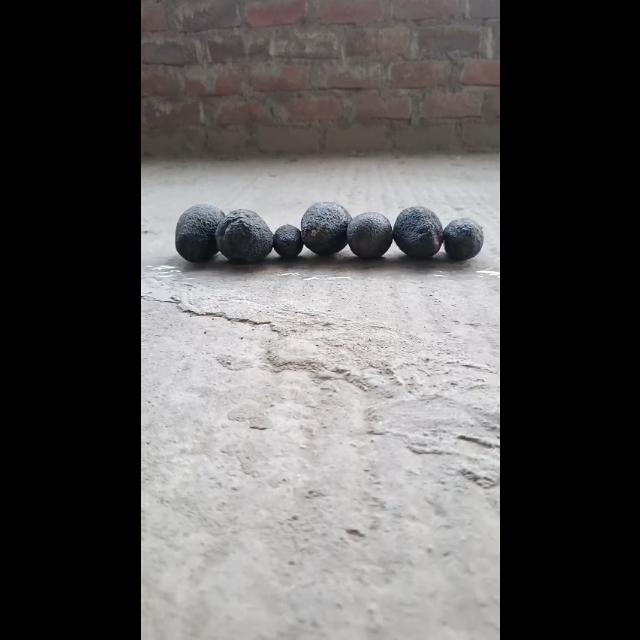Primera: (213, 208, 270, 262), (173, 204, 225, 262), (298, 201, 349, 255), (391, 206, 443, 258)
Segunda: (346, 211, 392, 259), (441, 216, 484, 262)
Tercera: (270, 224, 302, 258)
